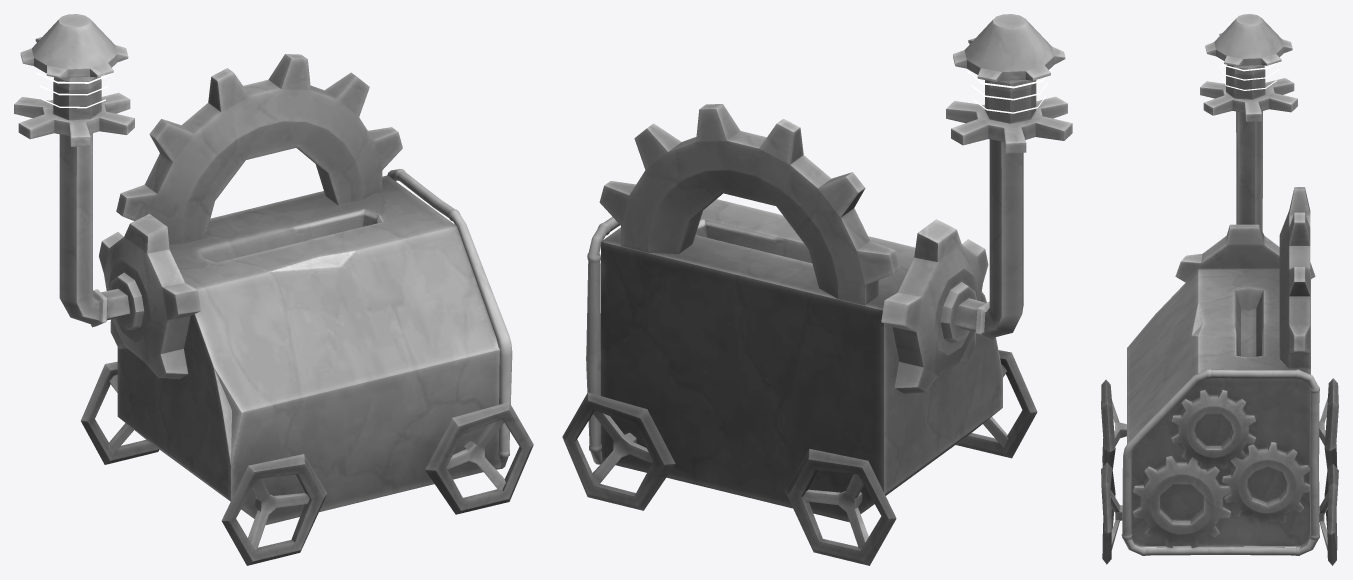
The model's file is obj_terminal_alt.gltf.
3 renders of one model, left to right at view 1: azimuth 30°, elevation 25°; view 2: azimuth 150°, elevation 25°; view 3: azimuth 270°, elevation 25°, orthographic. The views are drawn at different scales.
Parts seen in each view (by area): view 1: obj_terminal_alt; view 2: obj_terminal_alt; view 3: obj_terminal_alt.
Part boxes in pixels (box(x1,y1,x2,y2)): obj_terminal_alt: box(14, 14, 533, 565); obj_terminal_alt: box(562, 14, 1072, 565); obj_terminal_alt: box(1101, 14, 1338, 565).
Size of what is drawn, in the model's own units: 2.14 by 2.38 by 1.26.
Materials: 2 (1 with a texture image).
